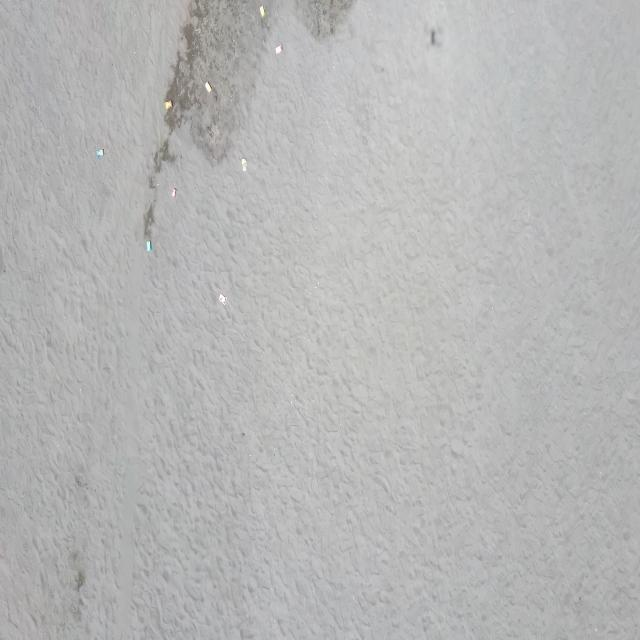retort-pouch: (218, 292, 228, 306), (204, 80, 213, 94), (258, 4, 266, 18), (96, 147, 105, 159), (275, 42, 283, 54), (241, 158, 247, 173), (165, 99, 172, 111), (172, 185, 178, 199), (146, 240, 152, 253)
